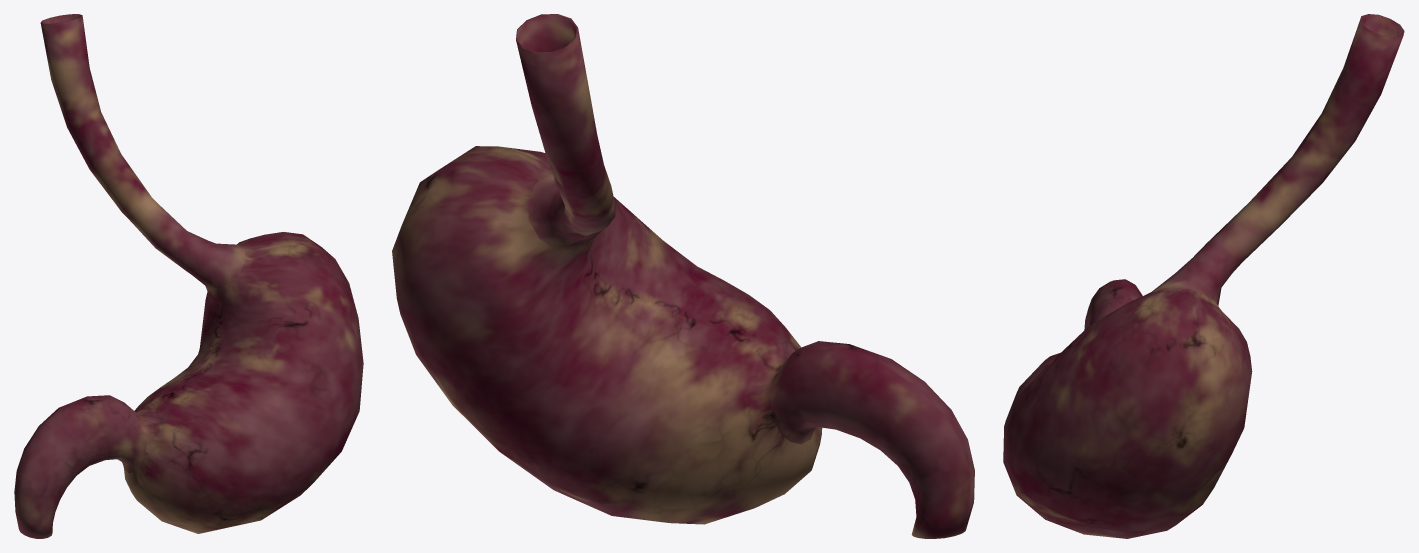
Rendered from stomac.fbx.
3 views of the same model, side by side, from view 1: azimuth 30°, elevation 25°; view 2: azimuth 150°, elevation 25°; view 3: azimuth 270°, elevation 25° (orthographic). The views are drawn at different scales.
Visible parts, largest first — view 1: Division_1; view 2: Division_1; view 3: Division_1.
Part boxes in pixels (left/top/right/bottom): Division_1: left=14, top=14, right=363, bottom=538; Division_1: left=392, top=14, right=974, bottom=538; Division_1: left=1003, top=14, right=1404, bottom=538.
Bounding box in the file's own units: 0.5186 × 0.5945 × 0.4464.
